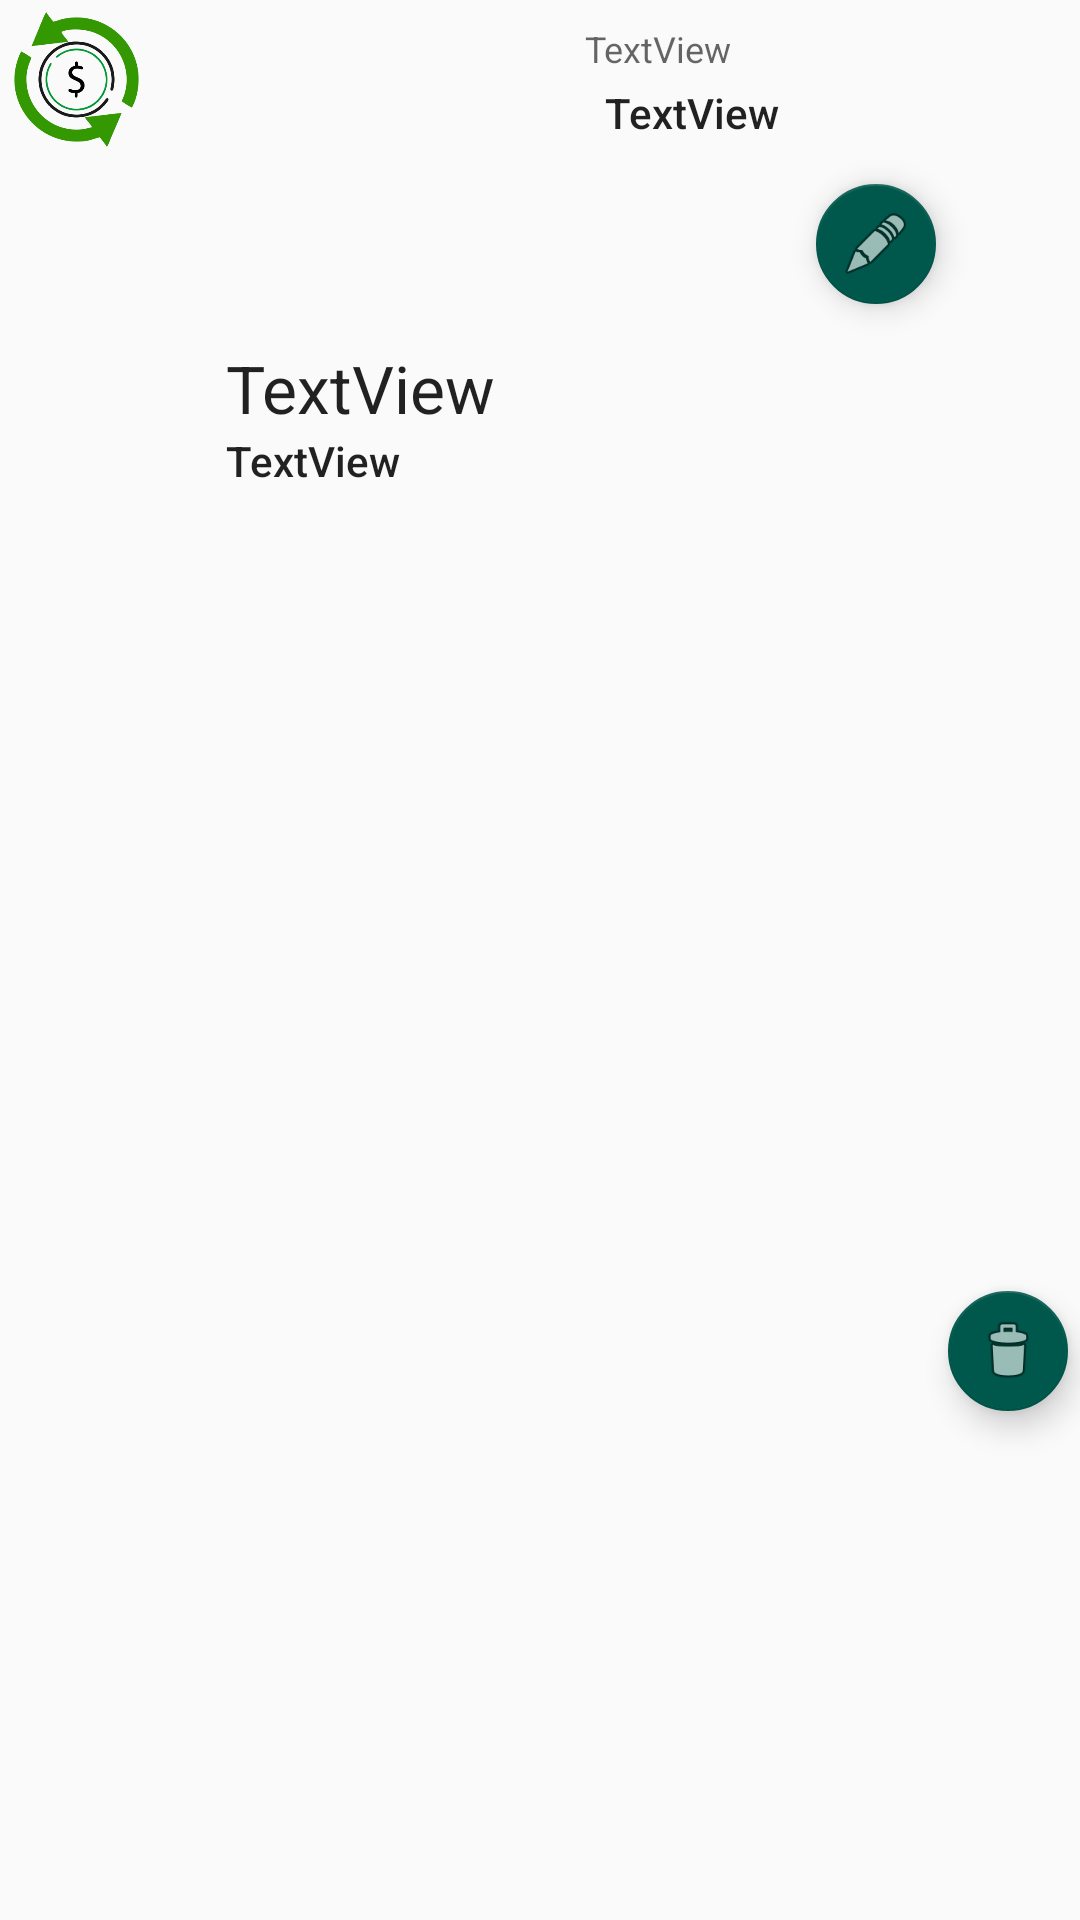

Where icons sit on this 1080 x 1920 app screen, as (x1, y1, x2, y2):
delete: (948, 1291, 1068, 1411)
edit: (816, 184, 936, 304)
money: (14, 12, 139, 147)
